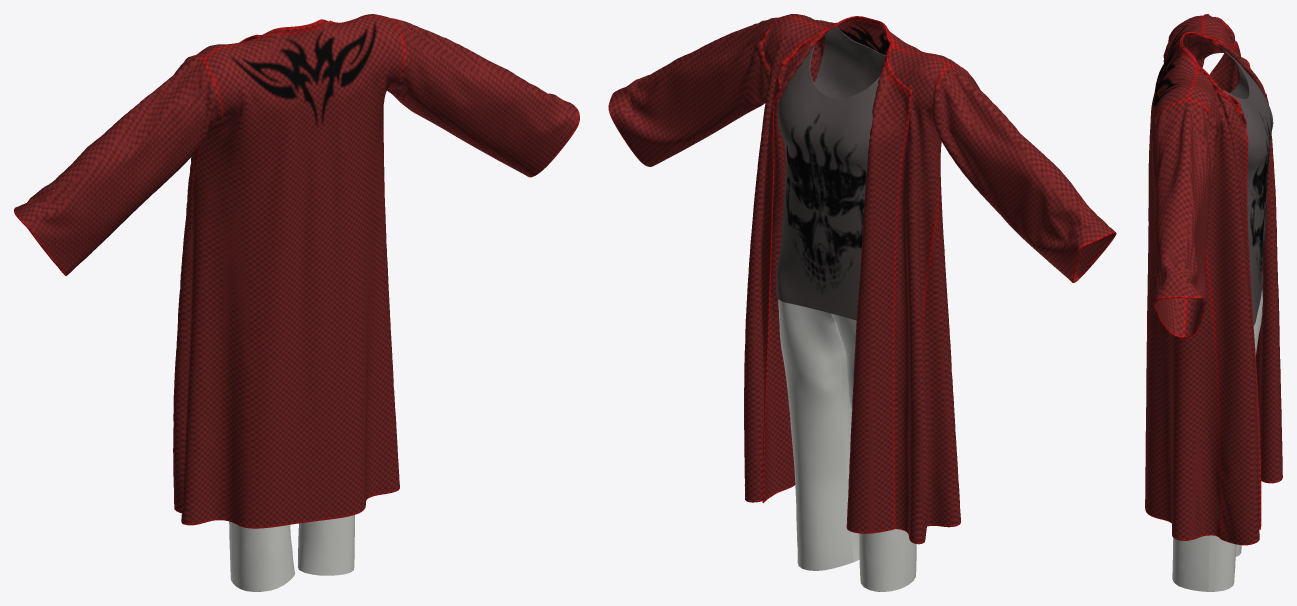
Rendered from mens_clothing.glb.
3 renders of one model, left to right at view 1: azimuth 30°, elevation 25°; view 2: azimuth 150°, elevation 25°; view 3: azimuth 270°, elevation 25°, orthographic. The views are drawn at different scales.
Visible parts, largest first — view 1: cloth_parent; view 2: cloth_parent; view 3: cloth_parent.
Part boxes in pixels (x1,y1,x2,y2): cloth_parent: [14, 14, 579, 591]; cloth_parent: [608, 14, 1116, 591]; cloth_parent: [1145, 14, 1282, 591].
Size of the model in its own units: 1.47 by 1.47 by 0.3487.
1 material, 1 textured.
